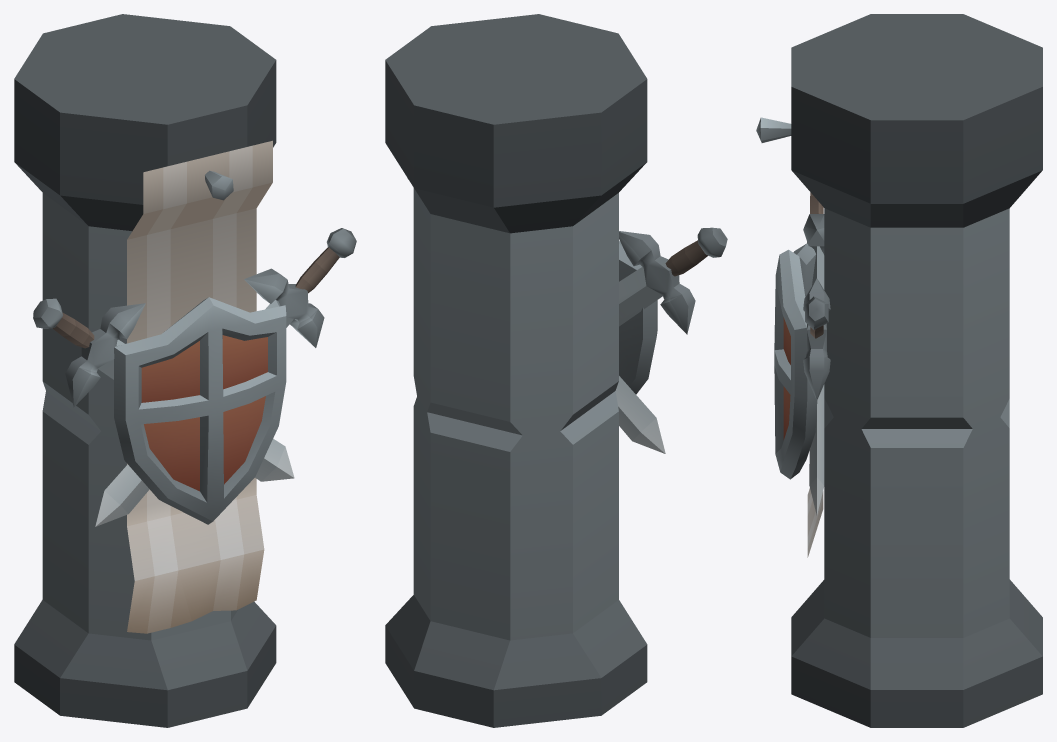
File: pillar_decorated.glb
The picture shows the model from 3 angles, left to right: view 1: azimuth 30°, elevation 25°; view 2: azimuth 150°, elevation 25°; view 3: azimuth 270°, elevation 25°; orthographic projection.
Parts seen in each view (by area): view 1: pillar_decorated; view 2: pillar_decorated; view 3: pillar_decorated.
Boxes of the visible parts, <box> form: pillar_decorated: <box>14,14,356,727</box>; pillar_decorated: <box>385,14,727,727</box>; pillar_decorated: <box>756,14,1042,727</box>.
Size of the model in its own units: 2.23 by 4 by 1.71.
1 material, 1 textured.
